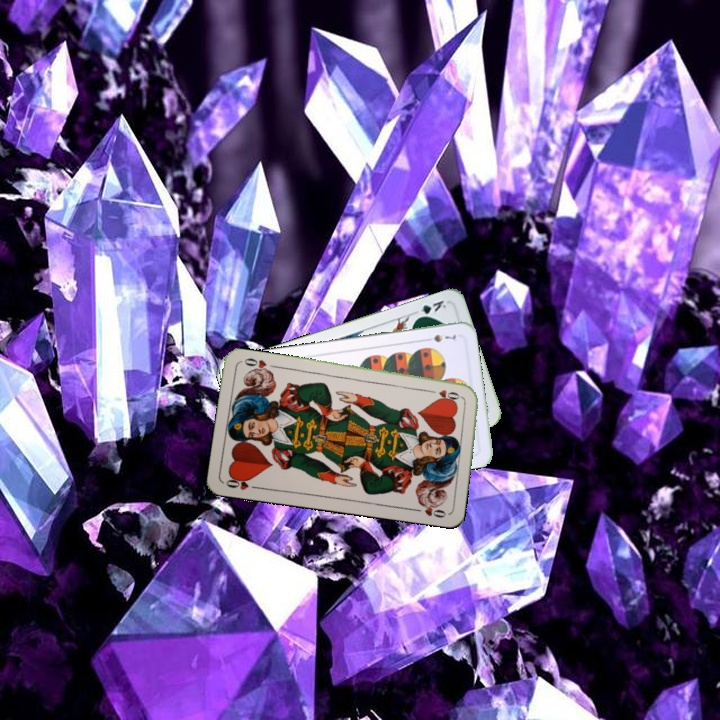GK: (409, 296, 449, 322)
HO: (222, 472, 262, 493), (424, 385, 465, 402)
S7: (420, 330, 460, 345)
